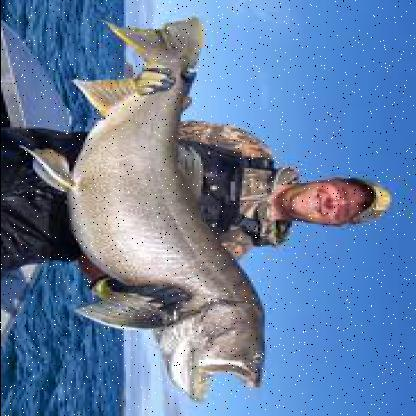fish: (20, 13, 270, 402)
